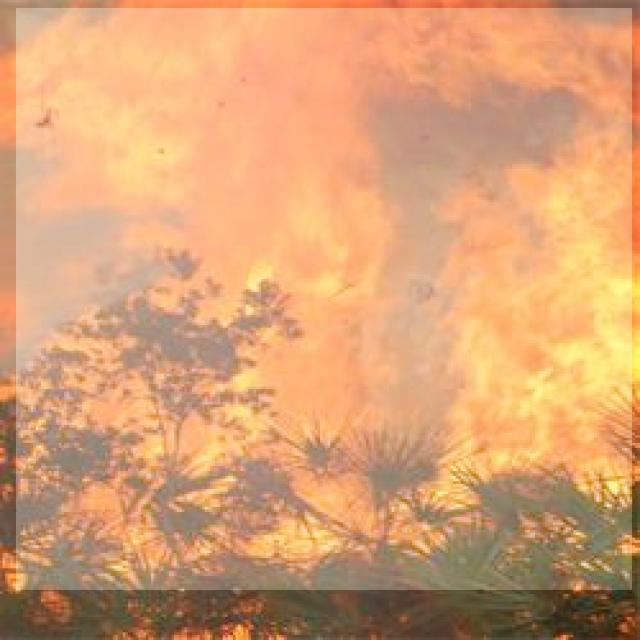Fire: (16, 8, 632, 590)
